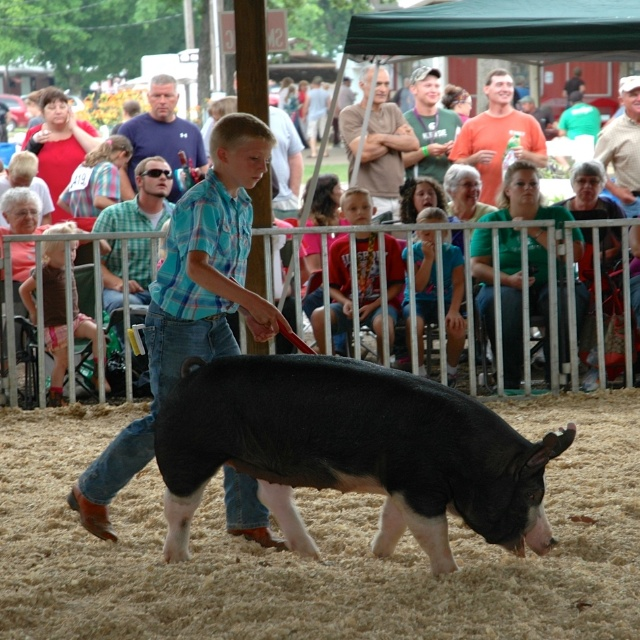Pig: (152, 353, 577, 578)
